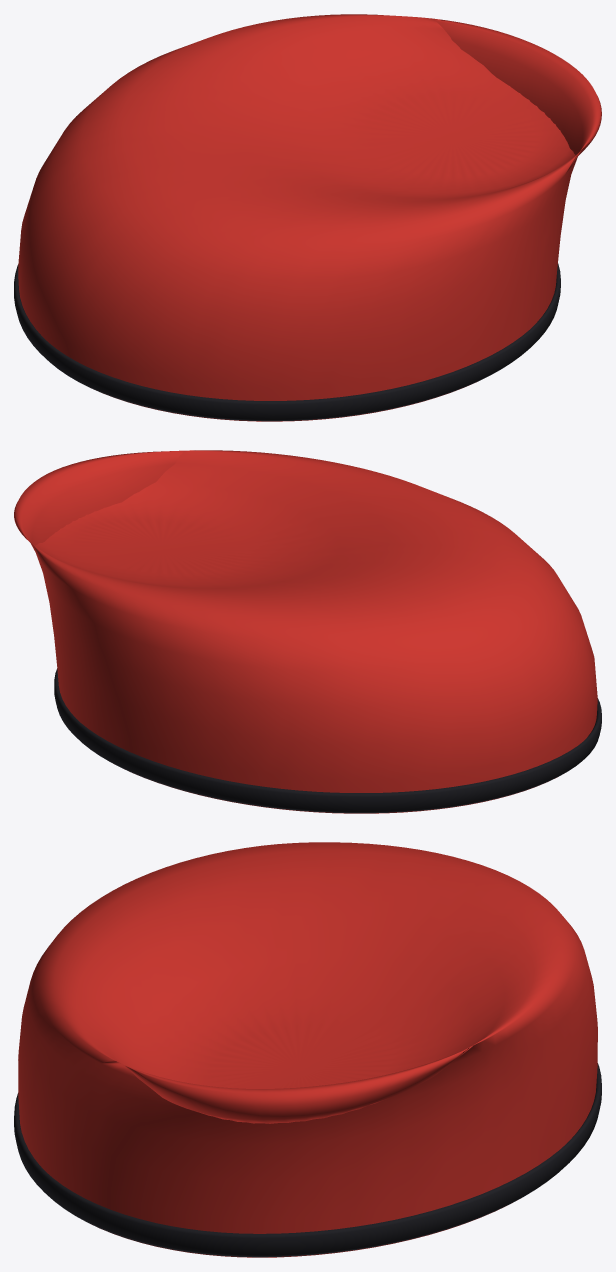
File: hw_fila.glb
3 views of the same model, one above another, from view 1: azimuth 30°, elevation 25°; view 2: azimuth 150°, elevation 25°; view 3: azimuth 270°, elevation 25° (orthographic). The views are drawn at different scales.
Parts seen in each view (by area): view 1: hw_fila, hw_fila_band; view 2: hw_fila, hw_fila_band; view 3: hw_fila, hw_fila_band.
Boxes of the visible parts, box(x1,y1,x2,y2) form: hw_fila: box(18, 14, 601, 421); hw_fila_band: box(14, 263, 560, 421); hw_fila: box(14, 450, 597, 813); hw_fila_band: box(54, 668, 601, 813); hw_fila: box(18, 842, 597, 1257); hw_fila_band: box(14, 1063, 601, 1257).
Size of the model in its own units: 0.9698 by 0.3344 by 0.7946.
